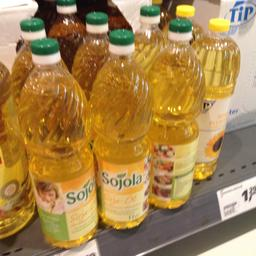oil: (16, 36, 98, 246), (91, 28, 152, 228), (148, 22, 202, 210)
